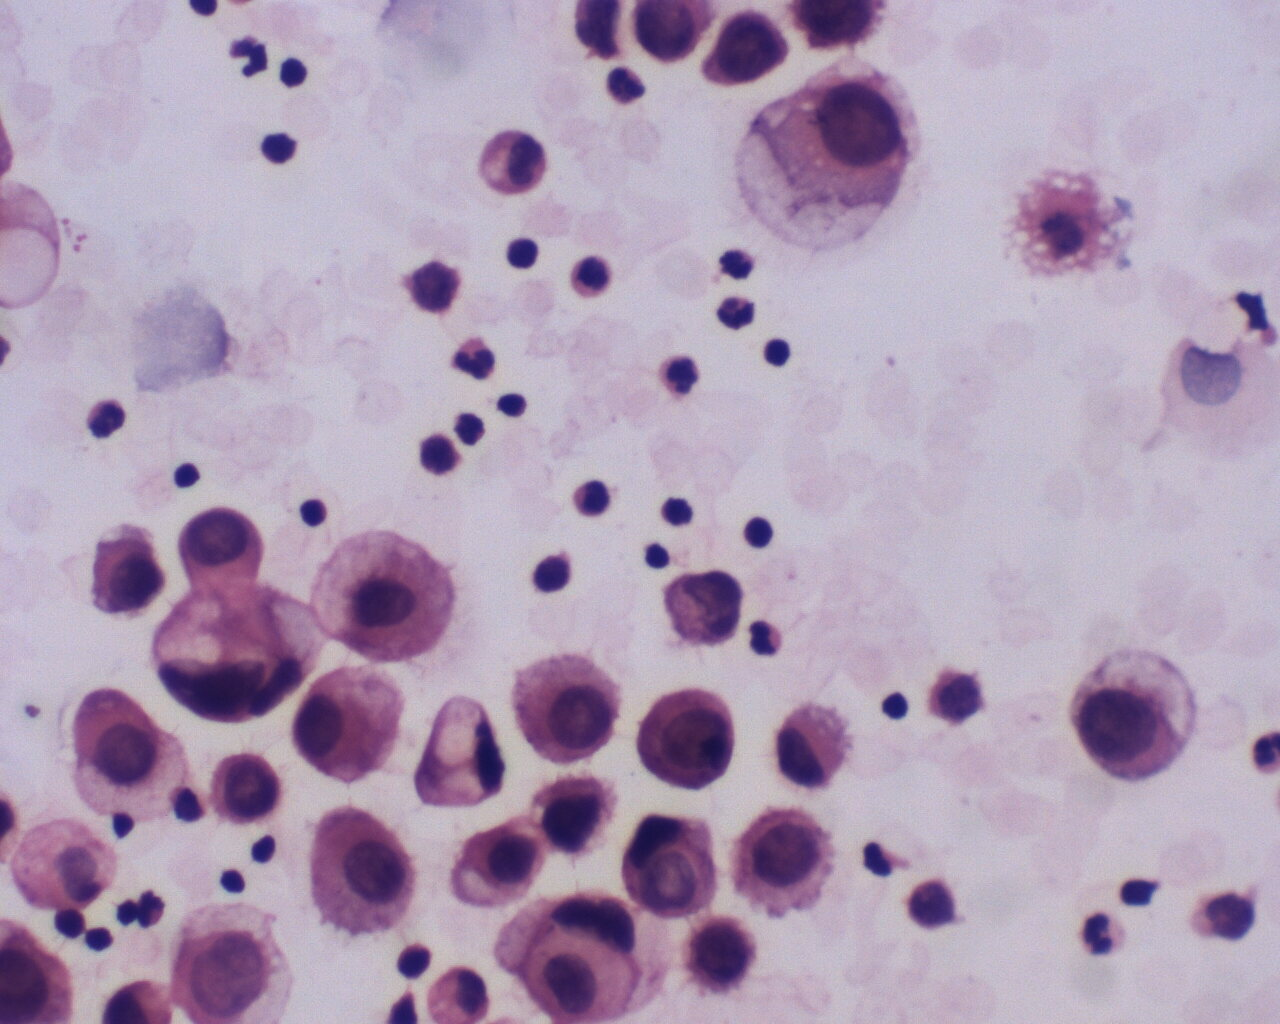ab: (1073, 639, 1204, 787), (307, 804, 428, 941), (167, 907, 299, 1024), (512, 654, 632, 765), (726, 802, 838, 916), (638, 680, 735, 795), (623, 816, 723, 918), (706, 4, 796, 100), (85, 523, 174, 620), (533, 767, 611, 855), (684, 911, 763, 995), (204, 747, 284, 827), (667, 569, 747, 648)
histo: (740, 65, 920, 253), (399, 692, 510, 814)
lymph: (736, 511, 783, 553), (296, 493, 335, 533), (273, 55, 315, 92), (501, 236, 543, 272), (492, 387, 525, 421)
meso: (309, 523, 462, 661), (293, 666, 413, 786)
neutro: (83, 389, 137, 449), (1073, 907, 1134, 960), (655, 348, 705, 404), (601, 56, 651, 109), (449, 335, 501, 385), (746, 612, 789, 665), (712, 293, 761, 338)
